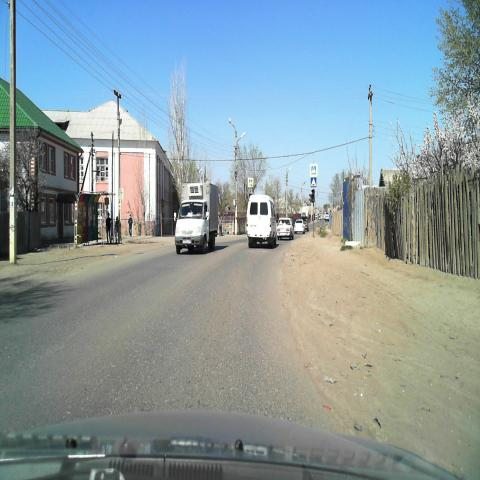5_19_1: (310, 163, 318, 176), (248, 176, 255, 188)
5_20: (309, 177, 317, 188)
